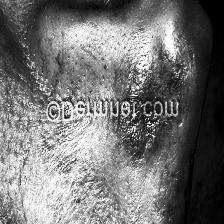Unclassified: (51, 121, 196, 171), (55, 54, 187, 92)
